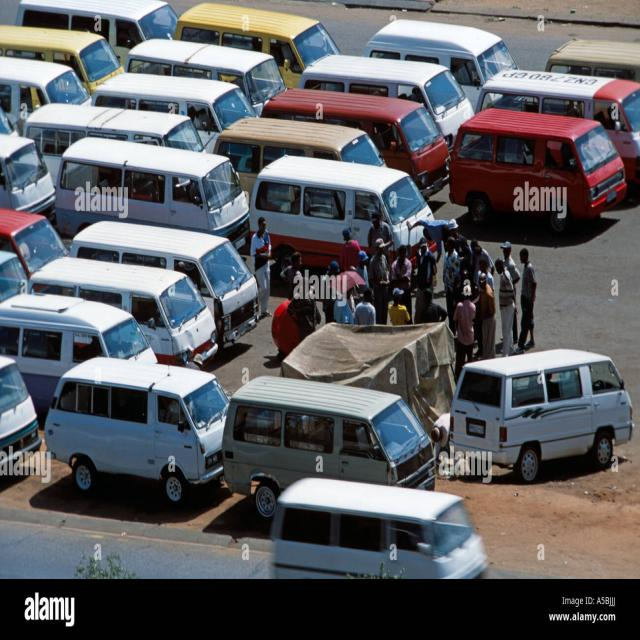MiniBus taxi: (449, 353, 637, 482), (203, 236, 269, 344)
